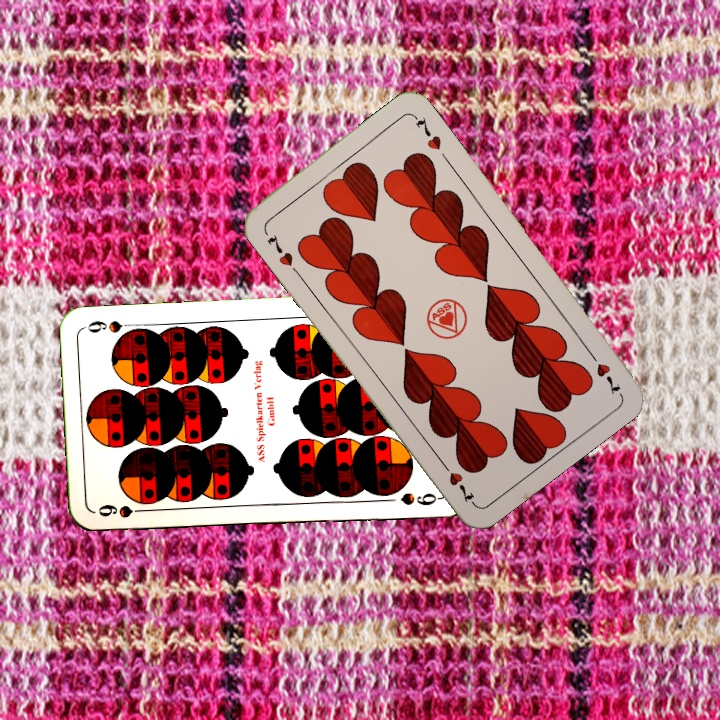H7: (583, 346, 623, 398), (263, 230, 302, 277)
S9: (94, 500, 152, 521)
